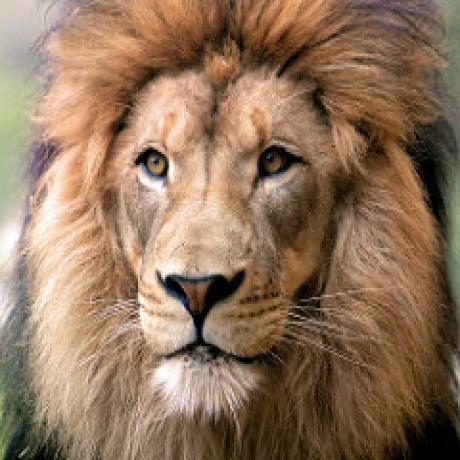Lion: (2, 0, 458, 460)
